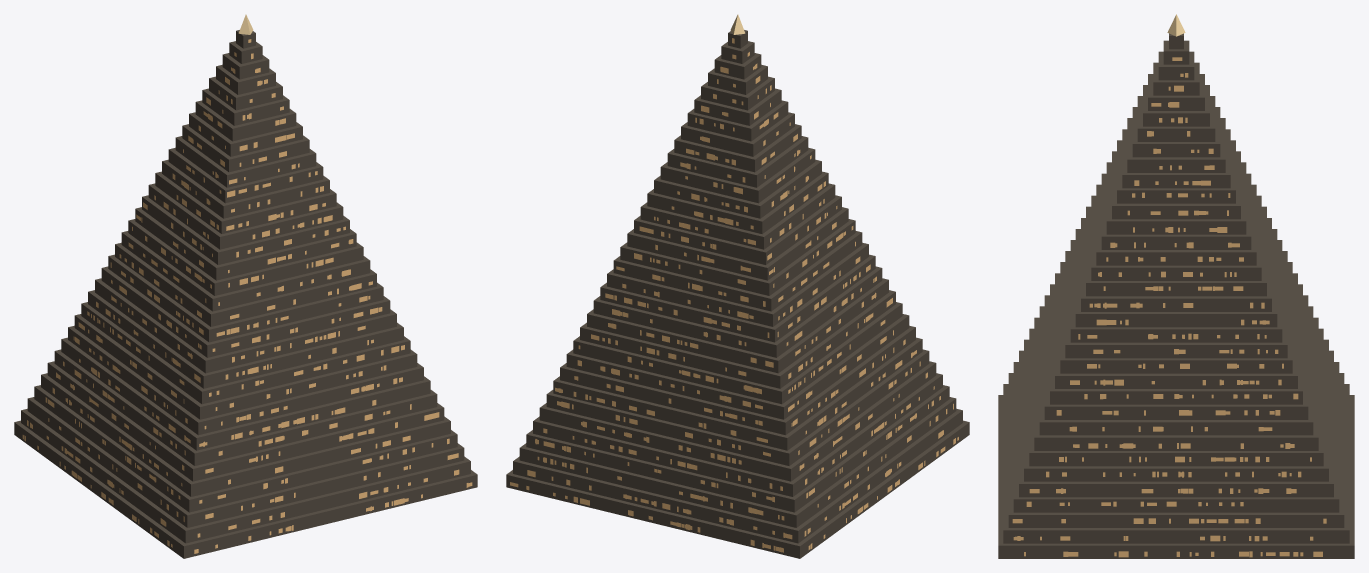
File: redoubt.glb
3 views of the same model, side by side, from view 1: azimuth 30°, elevation 25°; view 2: azimuth 150°, elevation 25°; view 3: azimuth 270°, elevation 25° (orthographic). The views are drawn at different scales.
Parts seen in each view (by area): view 1: stone, windows; view 2: stone, windows; view 3: stone, windows.
Boxes of the visible parts, bbox=[...] form: stone: bbox=[14, 30, 477, 558]; windows: bbox=[22, 39, 472, 553]; stone: bbox=[506, 30, 969, 558]; windows: bbox=[510, 38, 958, 552]; stone: bbox=[998, 33, 1354, 558]; windows: bbox=[1012, 57, 1326, 557].
Bounding box in the file's own units: 86.1 × 125 × 86.1.
